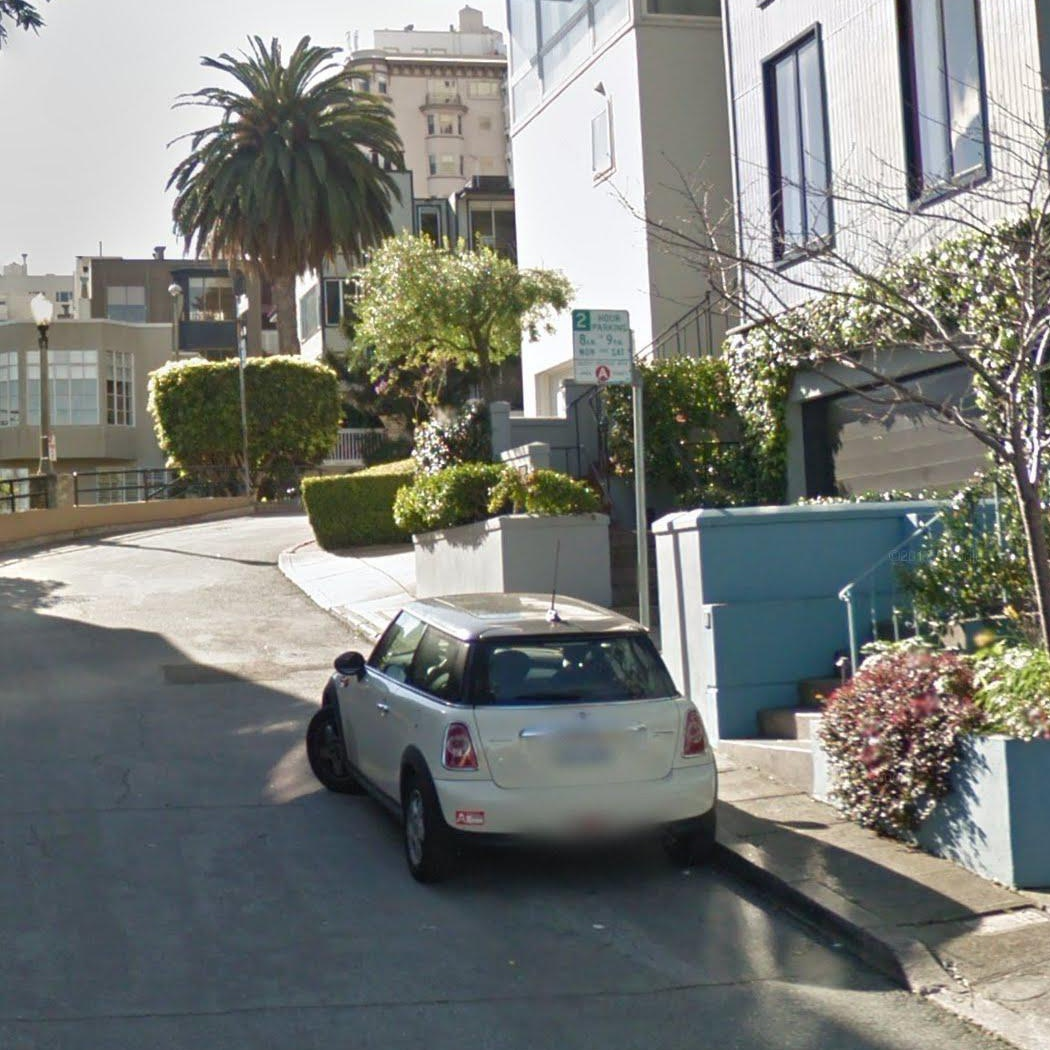2 Hour Parking: (570, 308, 633, 386)
